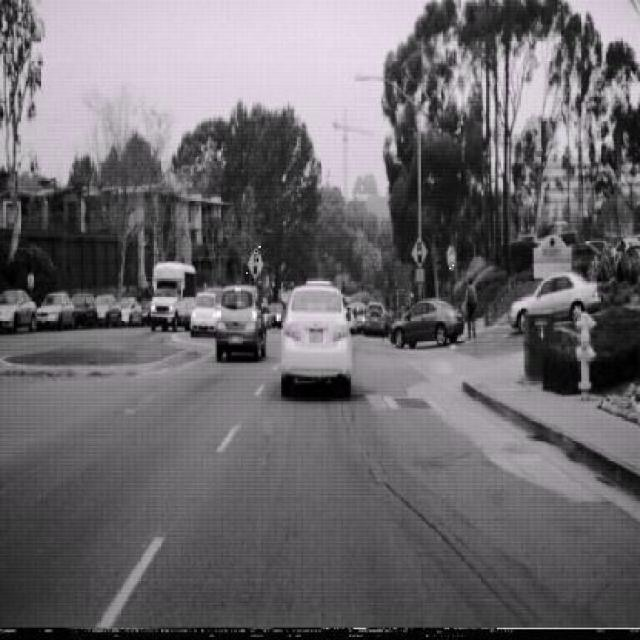signalAhead: (246, 244, 265, 280), (411, 234, 429, 269)
stop: (446, 245, 457, 272)
